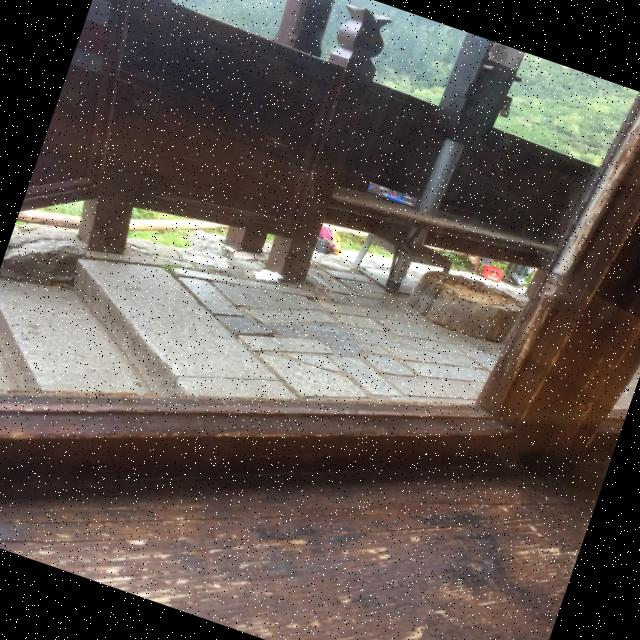Clear plastic bottle: (368, 186, 416, 207)
Tissues: (254, 269, 282, 283)
